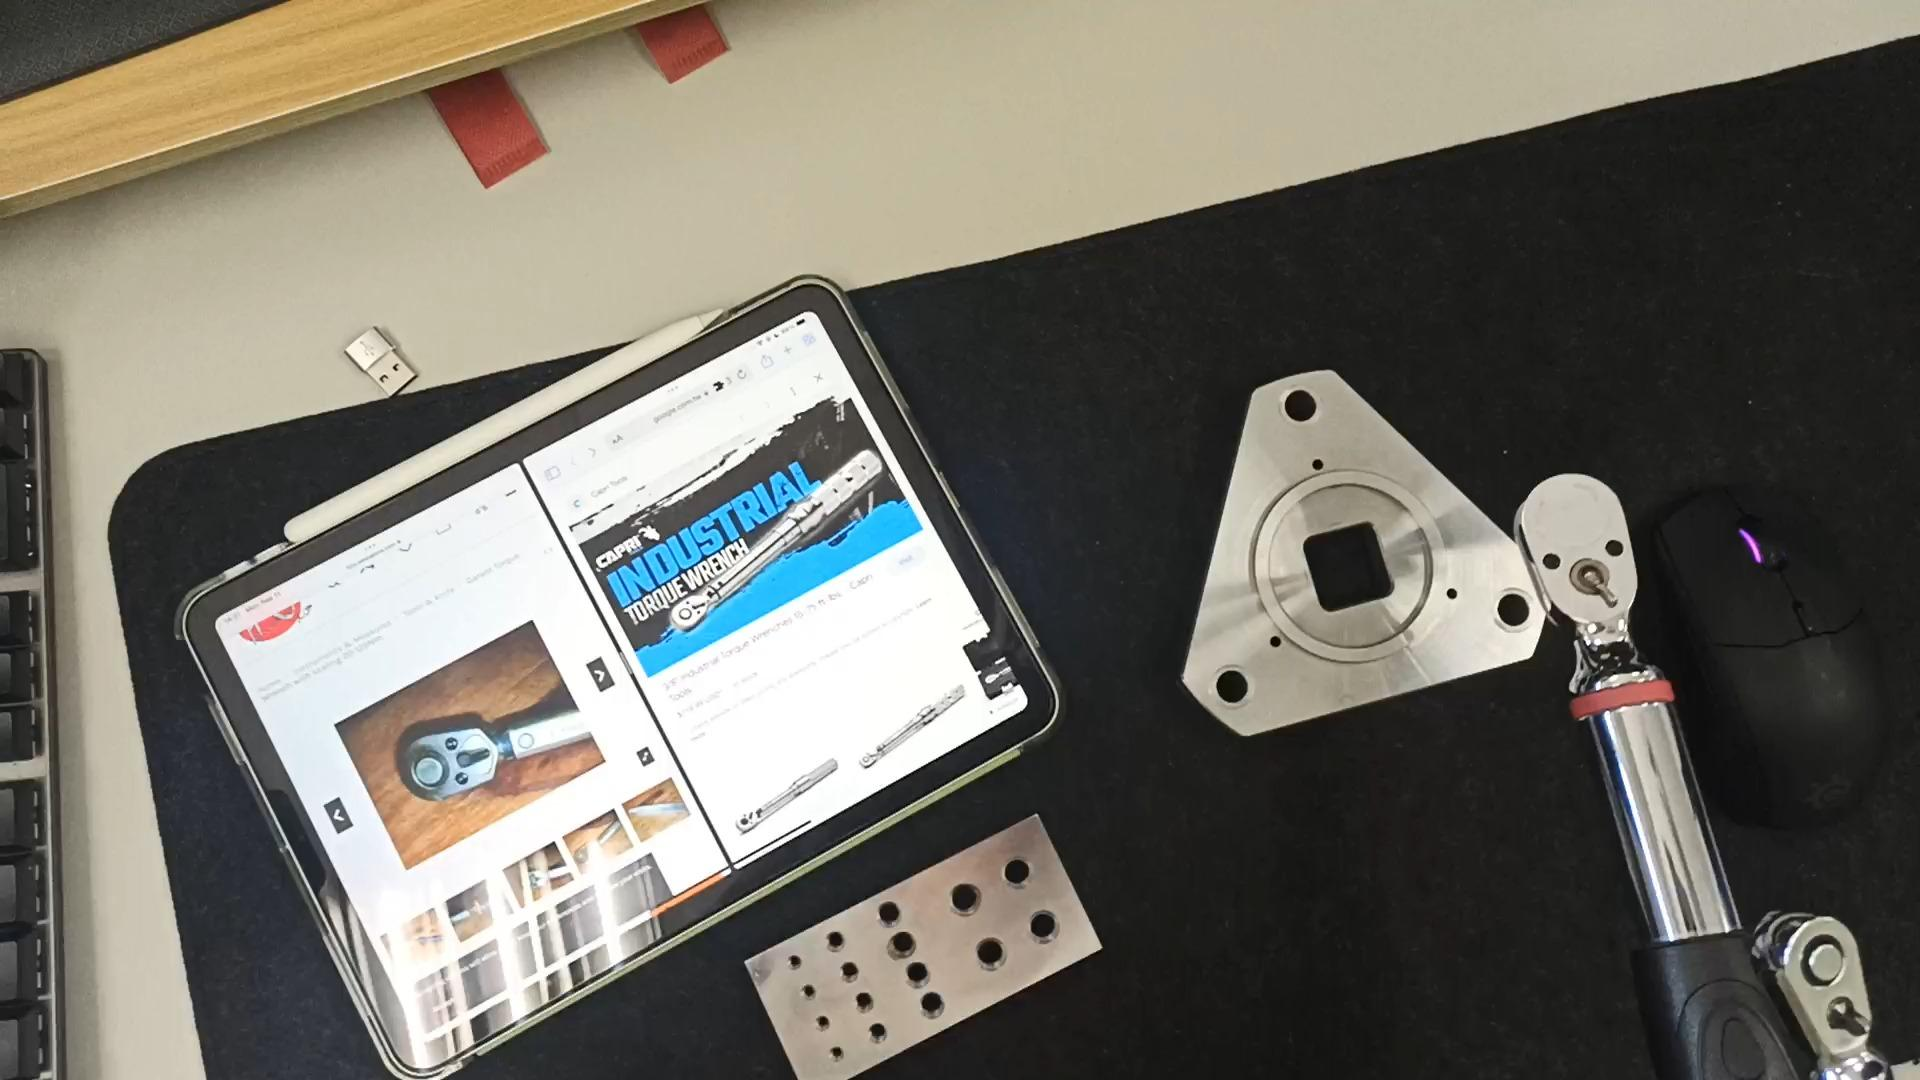Tool: (1518, 467, 1652, 676), (1759, 906, 1883, 1080), (396, 724, 498, 807), (662, 593, 713, 630)
hole: (1195, 666, 1255, 712), (1266, 389, 1325, 434), (923, 882, 985, 923), (977, 855, 1039, 894), (953, 939, 1014, 977), (1486, 589, 1538, 634), (1010, 909, 1068, 948), (858, 902, 914, 932), (873, 932, 926, 963), (891, 967, 942, 994), (909, 993, 957, 1021), (807, 931, 847, 955), (836, 993, 877, 1014), (823, 965, 861, 988), (860, 1026, 899, 1046), (812, 1046, 849, 1064), (771, 956, 806, 976), (785, 985, 818, 1004), (803, 1014, 833, 1031)
